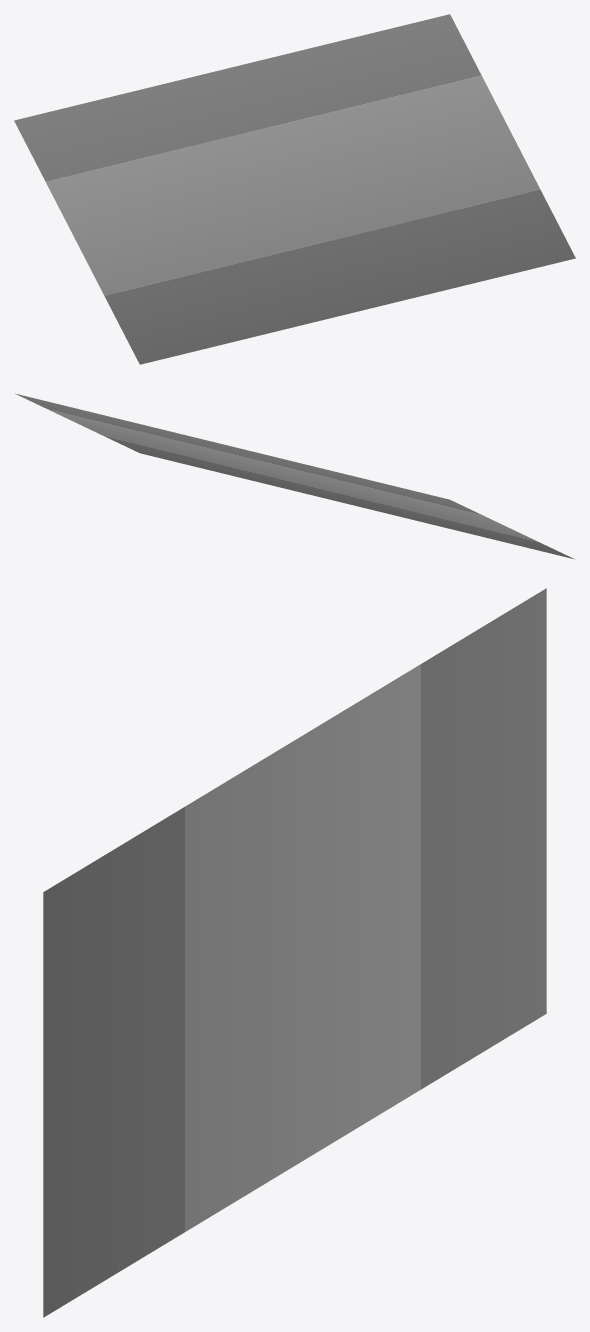
The picture shows the model from 3 angles, top to bottom: view 1: azimuth 30°, elevation 25°; view 2: azimuth 150°, elevation 25°; view 3: azimuth 270°, elevation 25°; orthographic projection. The views are drawn at different scales.
Bounding box in the file's own units: 1 × 0.3333 × 0.5.
Materials: 1 (1 with a texture image).
